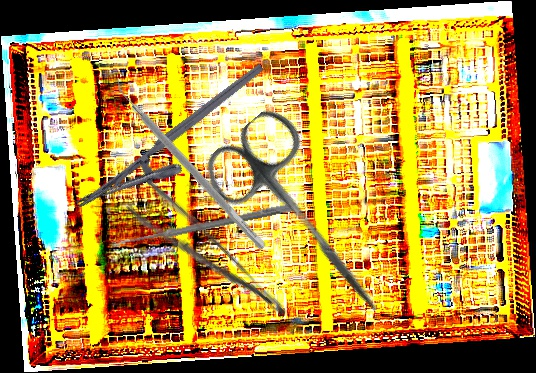Dressing Forceps: (121, 176, 292, 342)
Iris Scissors: (193, 101, 420, 342)
Needle Holder: (73, 61, 284, 236)
Spatula Surgical: (105, 72, 274, 252)
Surgical Spoon: (111, 201, 295, 250)
